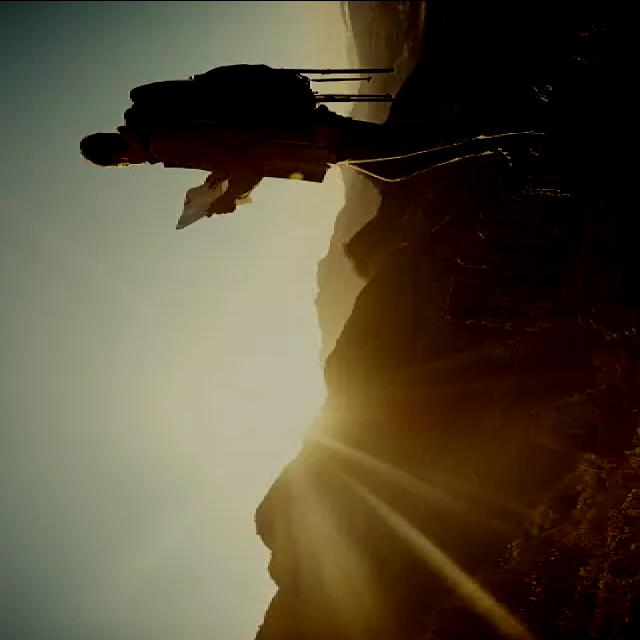backpack: (118, 64, 327, 132)
